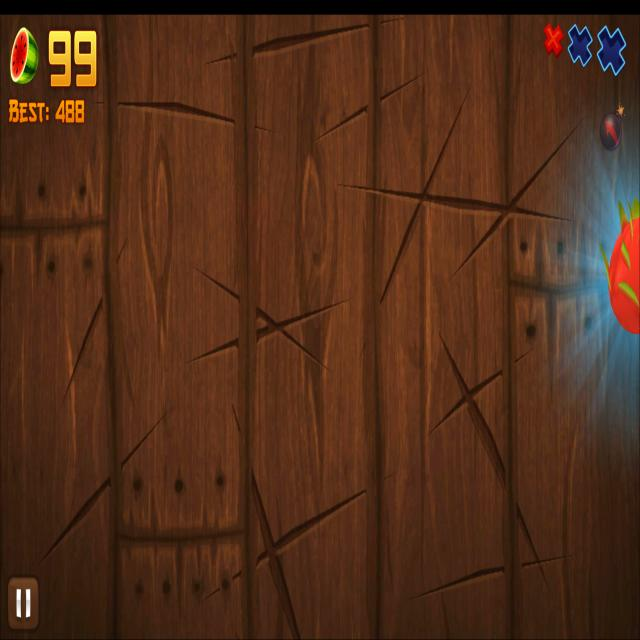fruit: (609, 215, 640, 334)
